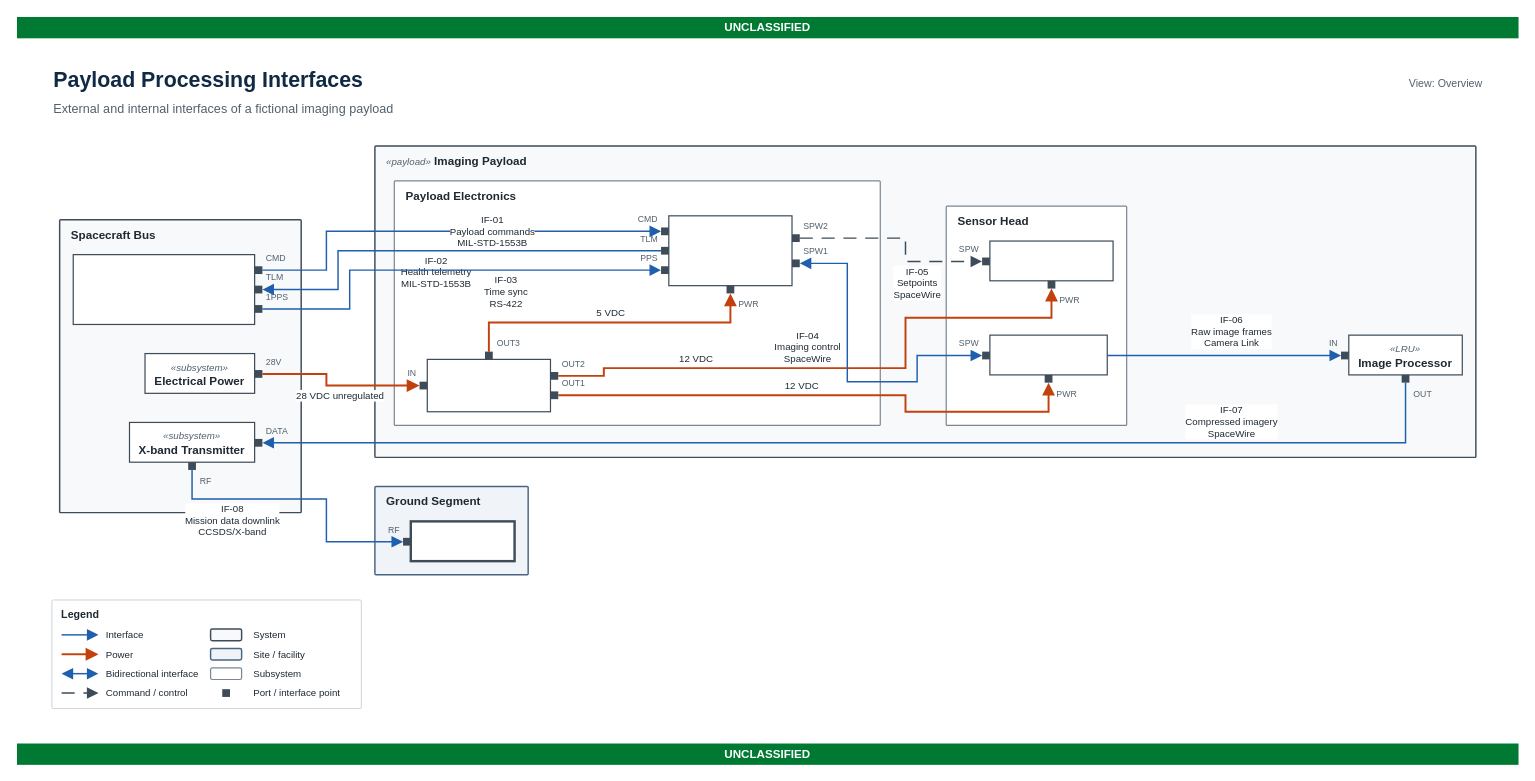
The diagram is 1535 pixels wide and 781 high, and some of its shapes have lost their labels. The centre of each missing label's shape, as x and y in pixels:
«external» Ground Station: point 462,541
«LRU» Focal Plane Array: point 1048,354
«LRU» Payload Controller: point 730,250
«LRU» Power Distribution: point 488,385
«LRU» Thermal Controller: point 1051,260
«subsystem» Command and Data Handling: point 163,289
